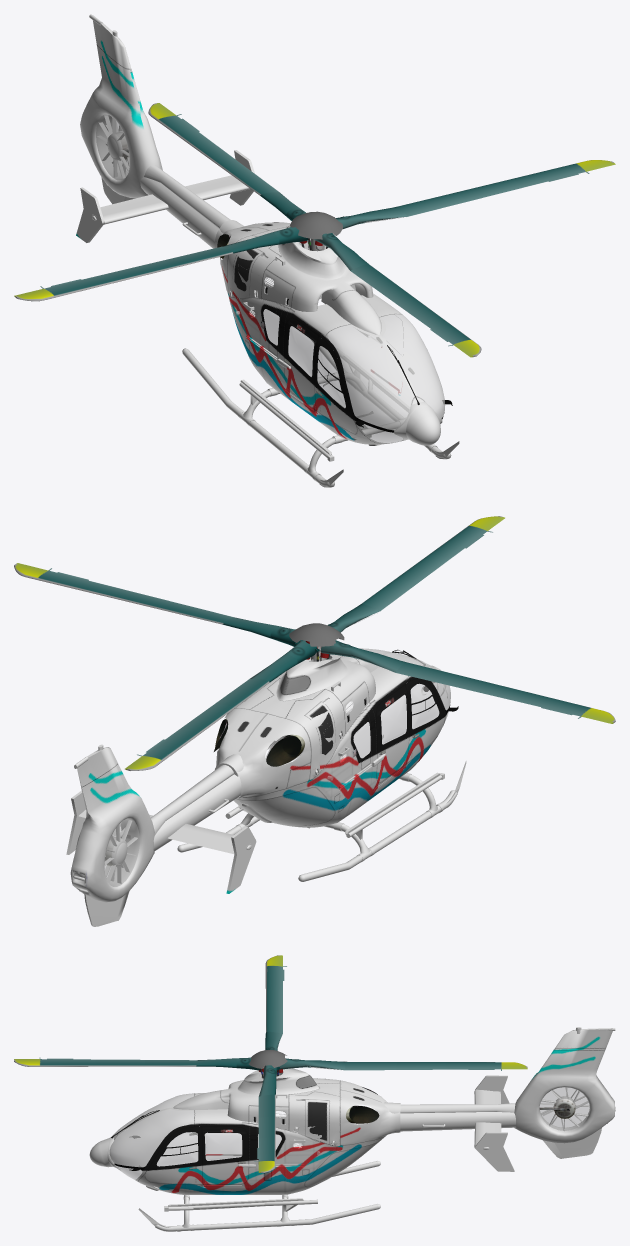
Rendered from helicopter.glb.
The picture shows the model from 3 angles, top to bottom: view 1: azimuth 30°, elevation 25°; view 2: azimuth 150°, elevation 25°; view 3: azimuth 270°, elevation 25°; orthographic projection. The views are drawn at different scales.
Visible parts, largest first — view 1: fuselage, windscreen, windscreen_tri, longskid_floats, IBF, backdoor.R, frontdoor.R, rotor_disc_T, BigRadom, blade2d, blade4d, blade1d (+15 smaller); view 2: fuselage, IBF, longskid_floats, reardoor.R, backdoor.R, rotor_disc_T, frontdoor.R, blade4d, blade1d, blade2d, blade3d, exhaust (+19 smaller); view 3: fuselage, windscreen, windscreen_tri, IBF, longskid_floats, backdoor.L, frontdoor.L, rotor_disc_T, backdoorglas.L, frontdoorglas.L, reardoor.L, blade3d (+13 smaller).
Part boxes in pixels (box(x1,y1,x2,y2)): fuselage: box(76, 14, 452, 444); windscreen: box(327, 314, 444, 430); windscreen_tri: box(328, 314, 444, 429); longskid_floats: box(182, 339, 451, 487); IBF: box(227, 226, 287, 298); backdoor.R: box(277, 318, 318, 414); frontdoor.R: box(314, 336, 357, 433); rotor_disc_T: box(96, 114, 129, 180); BigRadom: box(394, 401, 442, 445); blade2d: box(14, 274, 118, 301); blade4d: box(512, 160, 615, 187); blade1d: box(148, 103, 212, 147); fuselage: box(66, 652, 458, 926); IBF: box(235, 678, 345, 779); longskid_floats: box(177, 757, 457, 881); reardoor.R: box(238, 787, 335, 826); backdoor.R: box(372, 685, 408, 782); rotor_disc_T: box(104, 818, 139, 886); frontdoor.R: box(405, 678, 444, 762); blade4d: box(14, 563, 114, 595); blade1d: box(125, 728, 200, 770); blade2d: box(515, 692, 615, 723); blade3d: box(430, 516, 504, 559); exhaust: box(214, 718, 304, 766); fuselage: box(114, 1027, 615, 1194); windscreen: box(109, 1093, 193, 1167); windscreen_tri: box(110, 1093, 193, 1166); IBF: box(289, 1078, 340, 1145); longskid_floats: box(155, 1161, 380, 1231); backdoor.L: box(202, 1126, 255, 1187); frontdoor.L: box(145, 1126, 202, 1184); rotor_disc_T: box(539, 1087, 589, 1130); backdoorglas.L: box(204, 1132, 242, 1160); frontdoorglas.L: box(157, 1132, 198, 1166); reardoor.L: box(304, 1140, 380, 1187); blade3d: box(14, 1057, 95, 1066).
Size of the model in its own units: 10.1 by 3.98 by 11.84.
Materials: 9 (3 with a texture image).
